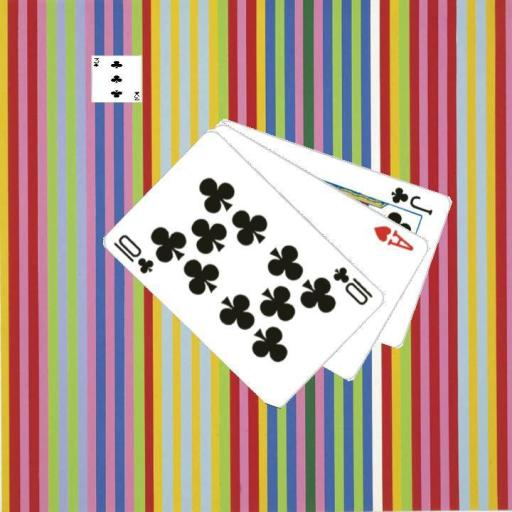card-corner: (110, 231, 156, 276), (330, 263, 375, 307), (388, 184, 435, 216), (370, 222, 416, 252)
